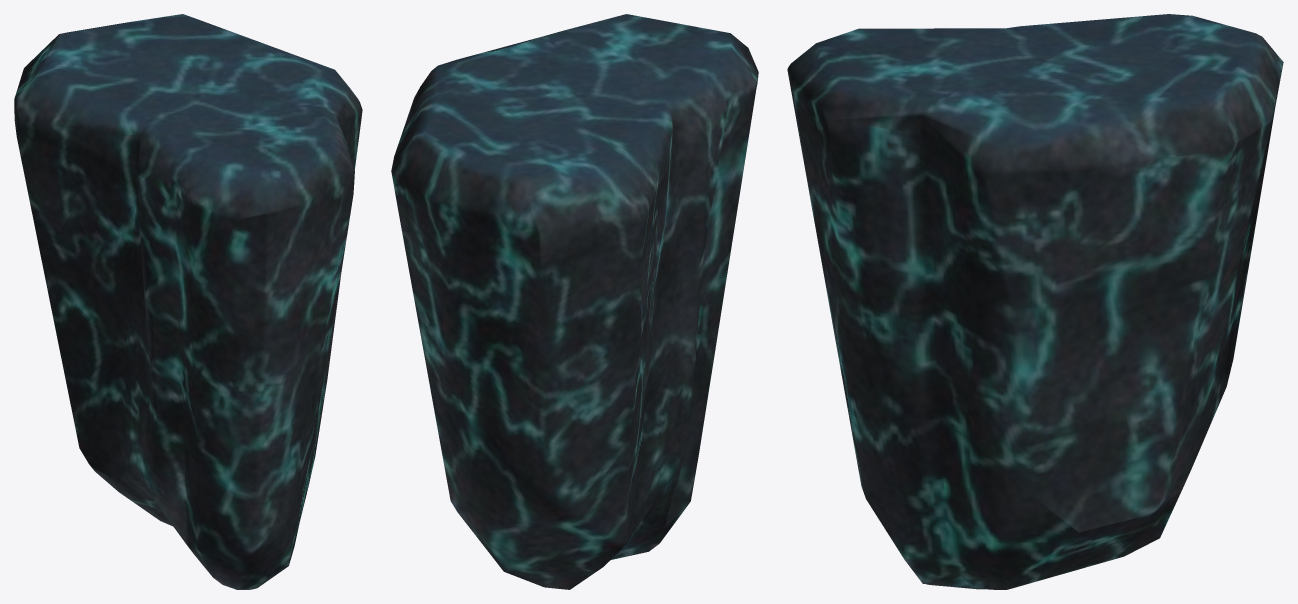
The model's file is sky_decor_cliff_c_soma_v35.glb.
3 renders of one model, left to right at view 1: azimuth 30°, elevation 25°; view 2: azimuth 150°, elevation 25°; view 3: azimuth 270°, elevation 25°, orthographic. The views are drawn at different scales.
Visible parts, largest first — view 1: caos_stl_cliffrock_01c; view 2: caos_stl_cliffrock_01c; view 3: caos_stl_cliffrock_01c.
Part boxes in pixels (x1=…): caos_stl_cliffrock_01c: x1=14, y1=14, x2=362, y2=589; caos_stl_cliffrock_01c: x1=391, y1=14, x2=758, y2=589; caos_stl_cliffrock_01c: x1=787, y1=14, x2=1283, y2=589.
Bounding box in the file's own units: 6.62 × 11.14 × 9.48.
1 material, 1 textured.
